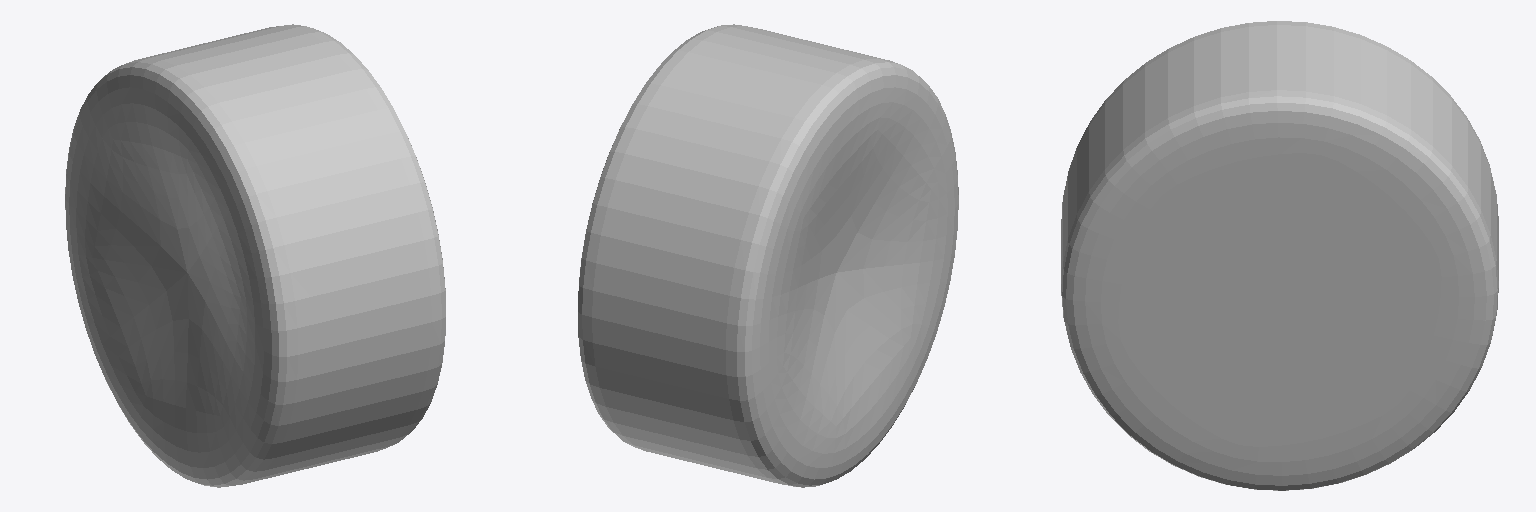
Rendered from llantafrontalderecha.obj.
The picture shows the model from 3 angles: view 1: azimuth 30°, elevation 25°; view 2: azimuth 150°, elevation 25°; view 3: azimuth 270°, elevation 25°; orthographic projection.
Parts seen in each view (by area): view 1: 10604_slot_car_red_SG_v1_iterations-2.006; view 2: 10604_slot_car_red_SG_v1_iterations-2.006; view 3: 10604_slot_car_red_SG_v1_iterations-2.006.
Part boxes in pixels (left/top/right/bottom): 10604_slot_car_red_SG_v1_iterations-2.006: left=65, top=24, right=445, bottom=487; 10604_slot_car_red_SG_v1_iterations-2.006: left=578, top=24, right=958, bottom=487; 10604_slot_car_red_SG_v1_iterations-2.006: left=1061, top=21, right=1498, bottom=490.
Size of the model in its own units: 0.3758 by 0.7901 by 0.79.